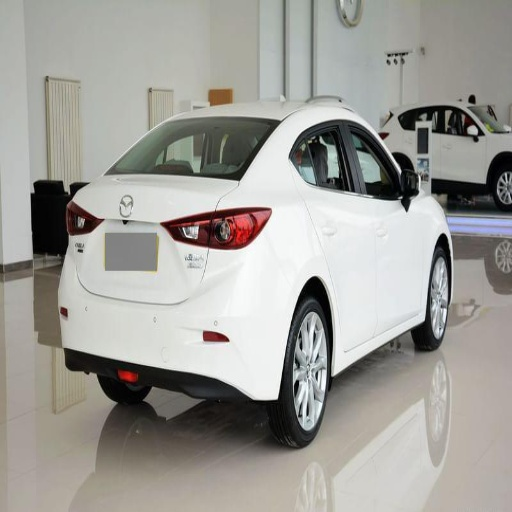_background_: (57, 244, 299, 399)
back_bumper: (108, 121, 280, 179)
back_left_light: (297, 119, 375, 350)
back_right_door: (212, 208, 271, 248)
front_left_light: (345, 119, 423, 334)
right_mirror: (73, 174, 236, 303)
trunk: (274, 295, 330, 448), (414, 243, 450, 351), (426, 367, 449, 460)
